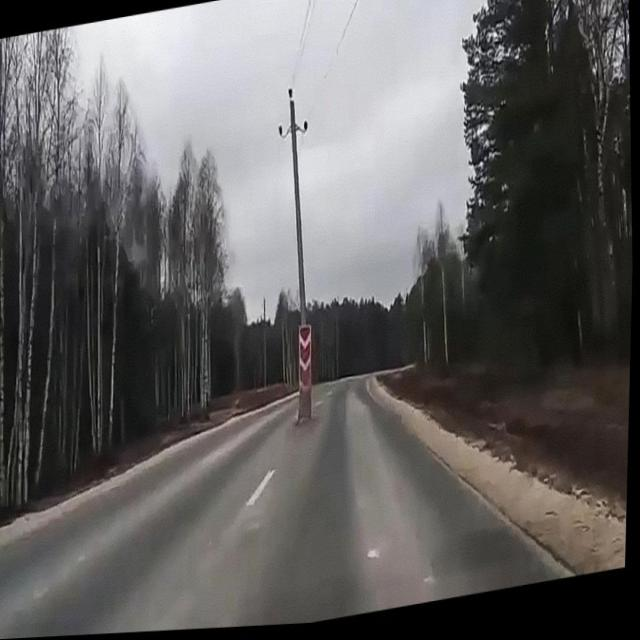pole: (290, 154, 325, 452)
